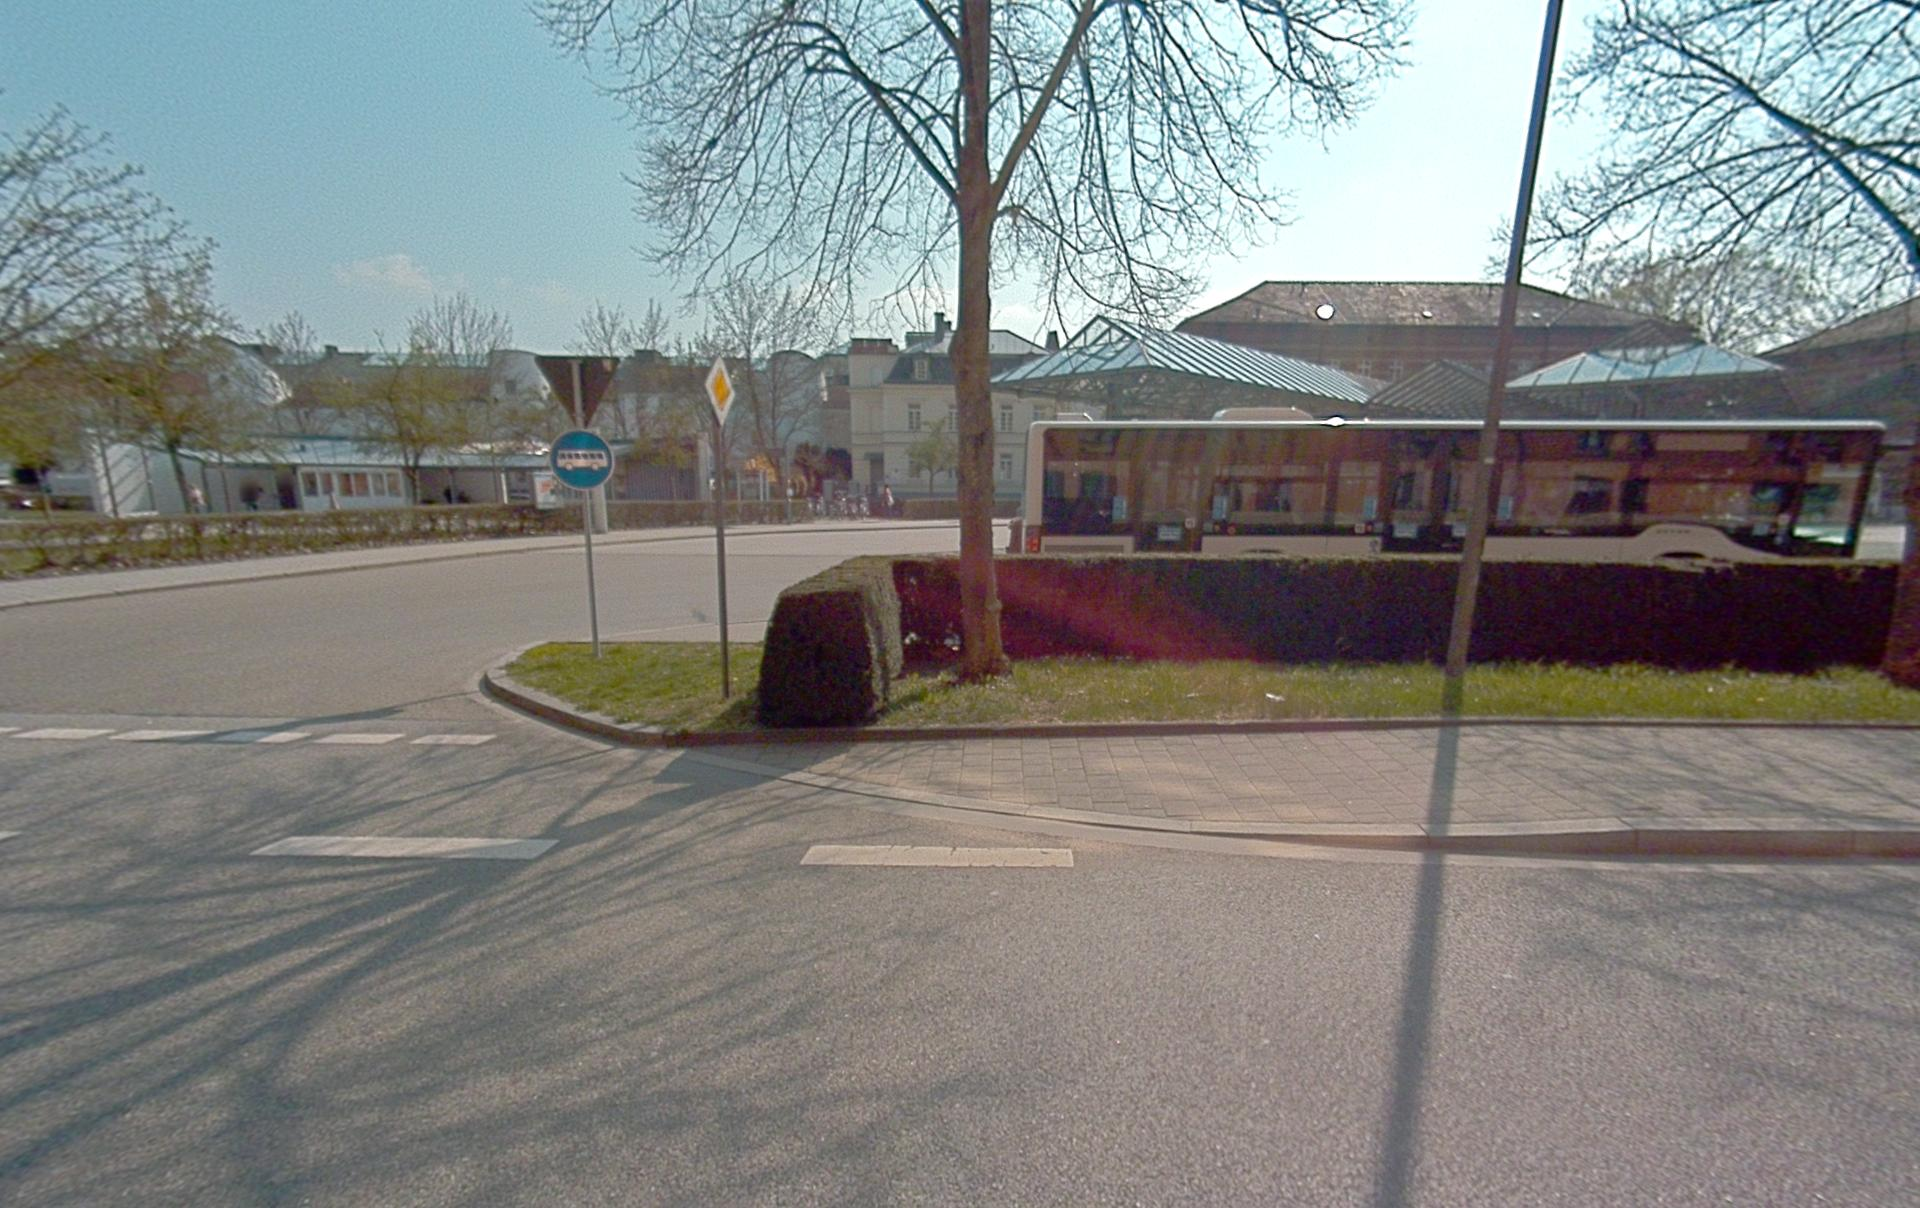traffic sign: (550, 430, 615, 490), (704, 358, 736, 427)
